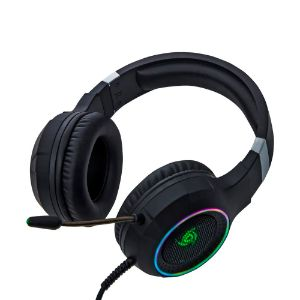headset: (15, 48, 276, 293)
